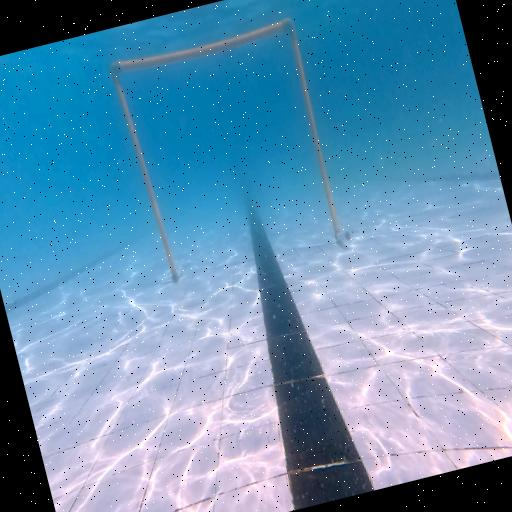gate: (108, 15, 352, 286)
